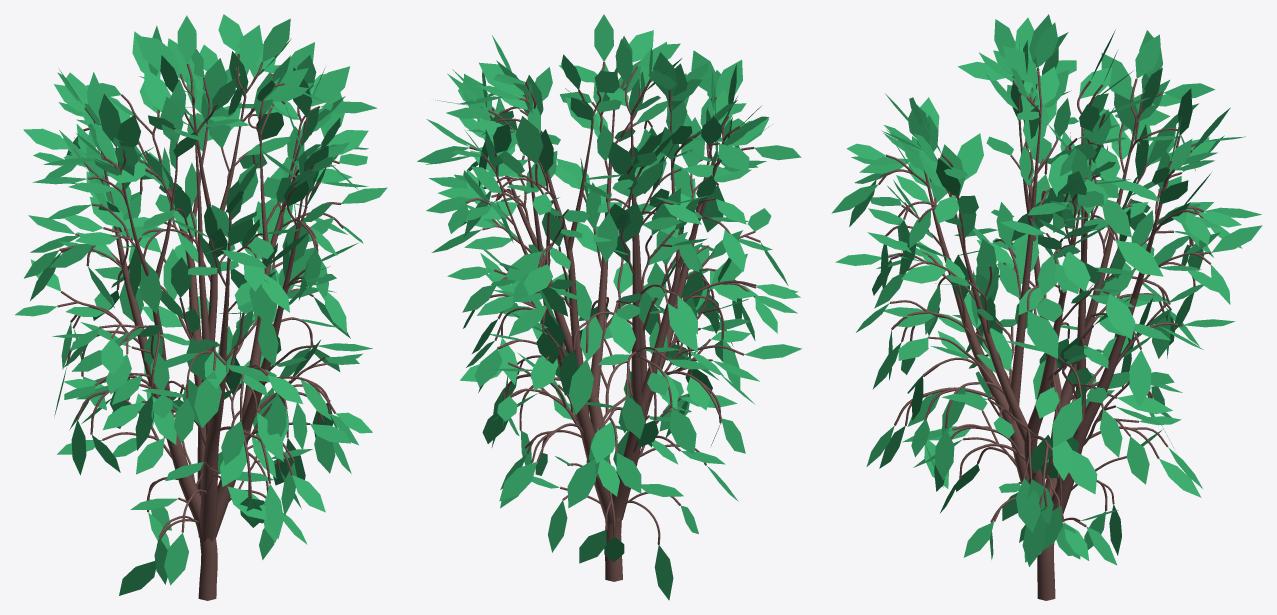
File: SmallRoundPlant.fbx
The picture shows the model from 3 angles, left to right: view 1: azimuth 30°, elevation 25°; view 2: azimuth 150°, elevation 25°; view 3: azimuth 270°, elevation 25°; orthographic projection.
Visible parts, largest first — view 1: leaves.002, tree.002; view 2: leaves.002, tree.002; view 3: leaves.002, tree.002.
Boxes of the visible parts, <box> form: leaves.002: <box>15,14,387,595</box>; tree.002: <box>57,54,343,600</box>; leaves.002: <box>417,14,802,600</box>; tree.002: <box>465,62,760,581</box>; leaves.002: <box>831,14,1262,566</box>; tree.002: <box>877,67,1211,600</box>.
Size of the model in its own units: 55.57 by 79.98 by 56.17.
